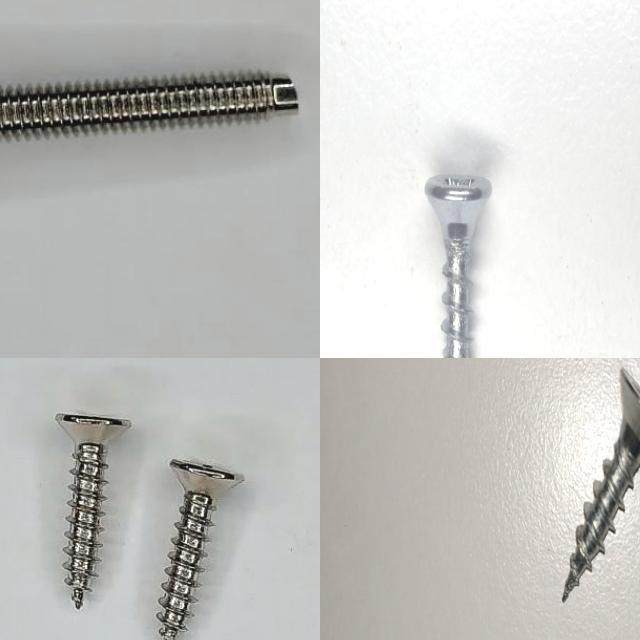Screw: (0, 72, 297, 139), (562, 367, 640, 602), (156, 459, 244, 640), (54, 413, 131, 608), (425, 173, 491, 358)
